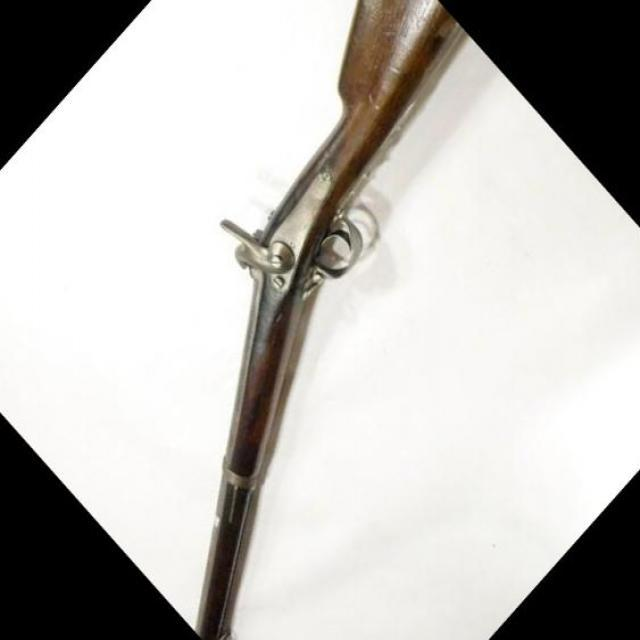weapon: (195, 0, 464, 640)
